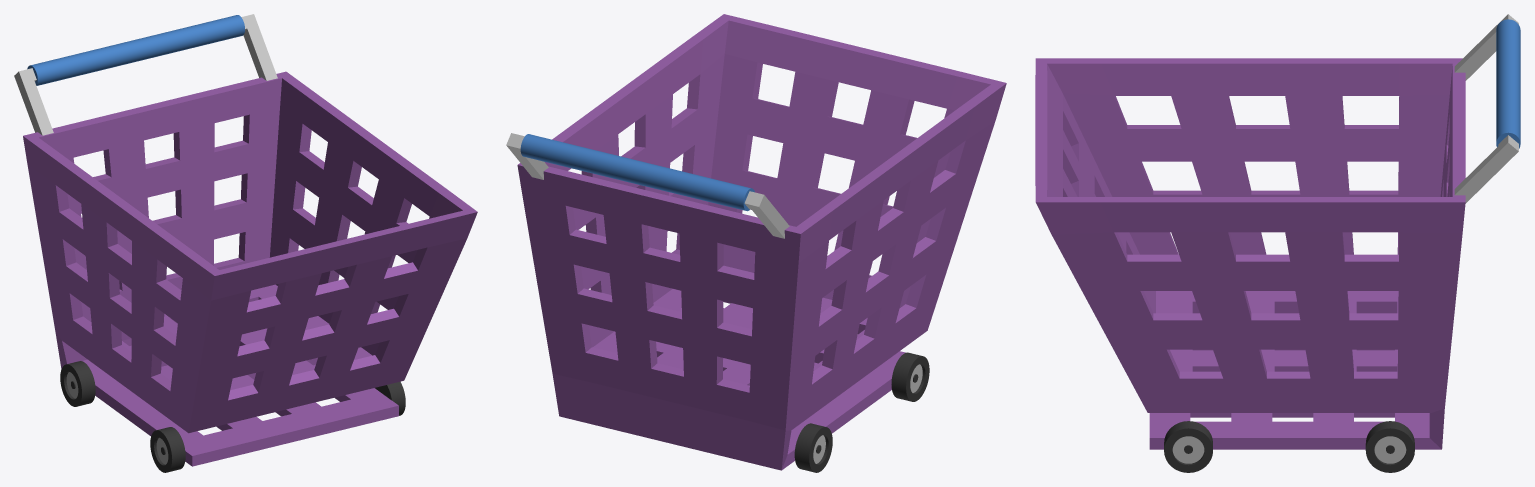
File: maincarrito.fbx
3 views of the same model, side by side, from view 1: azimuth 30°, elevation 25°; view 2: azimuth 150°, elevation 25°; view 3: azimuth 270°, elevation 25° (orthographic). The views are drawn at different scales.
Visible parts, largest first — view 1: Cart, Mango, Hold, FR, RR, FL; view 2: Cart, Mango, Hold, FR, RR; view 3: Cart, Mango, Hold, RL, FL.
Part boxes in pixels (bbox=[...]): Cart: bbox=[23, 71, 477, 466]; Mango: bbox=[27, 15, 244, 85]; Hold: bbox=[14, 14, 277, 135]; FR: bbox=[150, 427, 185, 472]; RR: bbox=[60, 361, 95, 406]; FL: bbox=[375, 381, 405, 415]; Cart: bbox=[517, 14, 1006, 470]; Mango: bbox=[520, 134, 754, 211]; Hold: bbox=[506, 133, 789, 238]; FR: bbox=[891, 352, 929, 401]; RR: bbox=[794, 423, 832, 472]; Cart: bbox=[1035, 58, 1465, 449]; Mango: bbox=[1496, 19, 1520, 148]; Hold: bbox=[1454, 14, 1518, 203]; RL: bbox=[1365, 421, 1414, 472]; FL: bbox=[1164, 421, 1212, 472].
Bounding box in the file's own units: 208 × 224 × 296.
